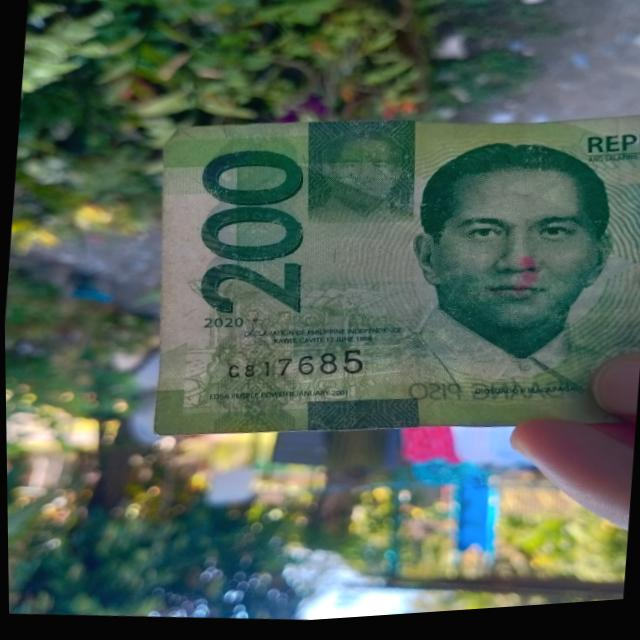concealed_value: (294, 114, 414, 236)
serial_number: (222, 339, 363, 398)
value: (181, 141, 317, 330)
